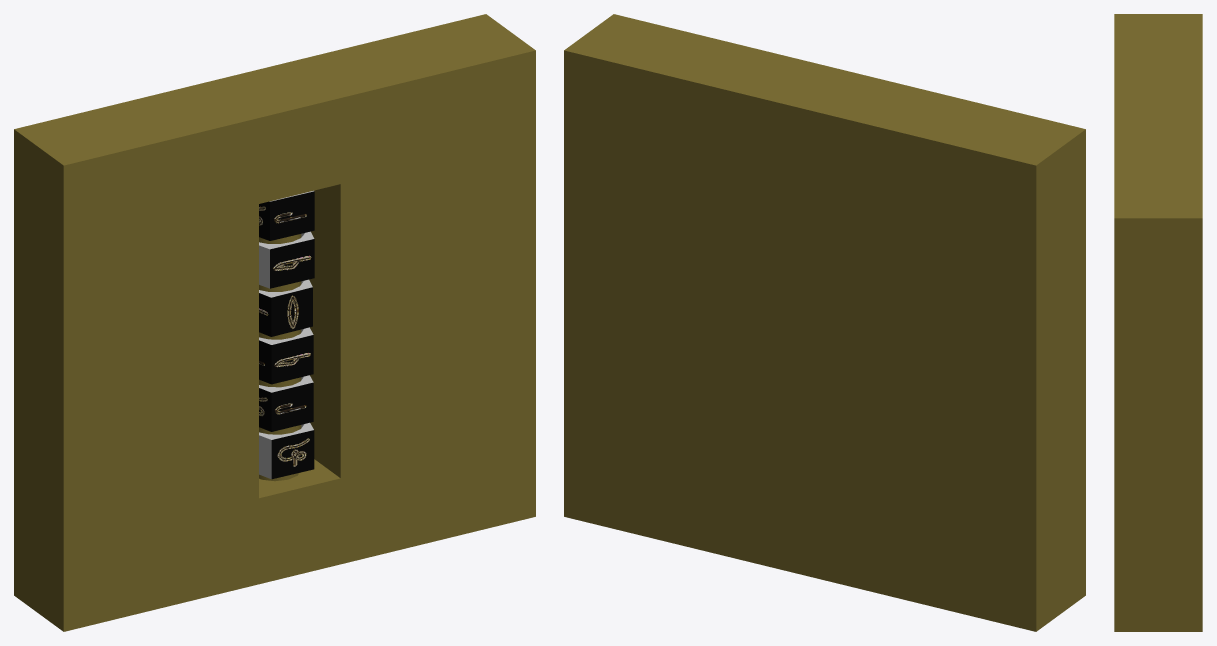
Rendered from wallpuzzle2.fbx.
The picture shows the model from 3 angles, left to right: view 1: azimuth 30°, elevation 25°; view 2: azimuth 150°, elevation 25°; view 3: azimuth 270°, elevation 25°; orthographic projection. The views are drawn at different scales.
Parts seen in each view (by area): view 1: CubePuzzle, CylinderPuzzle2, CylinderPuzzle3, CylinderPuzzle6, CylinderPuzzle4, CylinderPuzzle1, CylinderPuzzle5, MainCylinder; view 2: CubePuzzle; view 3: CubePuzzle.
Part boxes in pixels (x1,y1,x2,y2): CubePuzzle: (14,14,535,631); CylinderPuzzle2: (259,422,314,479); CylinderPuzzle3: (259,231,314,288); CylinderPuzzle6: (259,327,313,384); CylinderPuzzle4: (259,375,313,431); CylinderPuzzle1: (259,279,312,336); CylinderPuzzle5: (259,190,314,240); MainCylinder: (259,234,301,481); CubePuzzle: (564,14,1085,631); CubePuzzle: (1114,14,1202,631).
Bounding box in the file's own units: 2076 × 1960 × 379.
